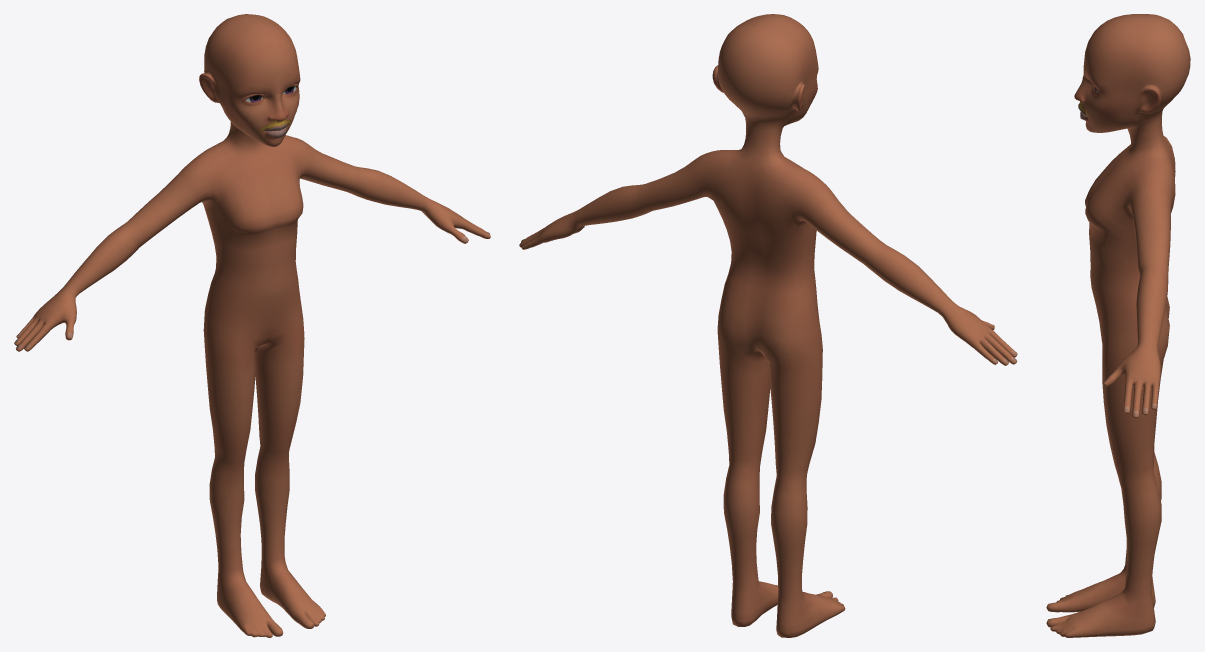
Rendered from frame_0067.glb.
3 views of the same model, side by side, from view 1: azimuth 30°, elevation 25°; view 2: azimuth 150°, elevation 25°; view 3: azimuth 270°, elevation 25° (orthographic). The views are drawn at different scales.
Parts seen in each view (by area): view 1: frame_0067_head_geo; view 2: frame_0067_head_geo; view 3: frame_0067_head_geo.
Boxes of the visible parts, <box> form: frame_0067_head_geo: <box>14,14,490,637</box>; frame_0067_head_geo: <box>519,14,1017,637</box>; frame_0067_head_geo: <box>1046,14,1190,637</box>.
Bounding box in the file's own units: 1.28 × 1.5 × 0.3253.
Materials: 3 (3 with a texture image).
